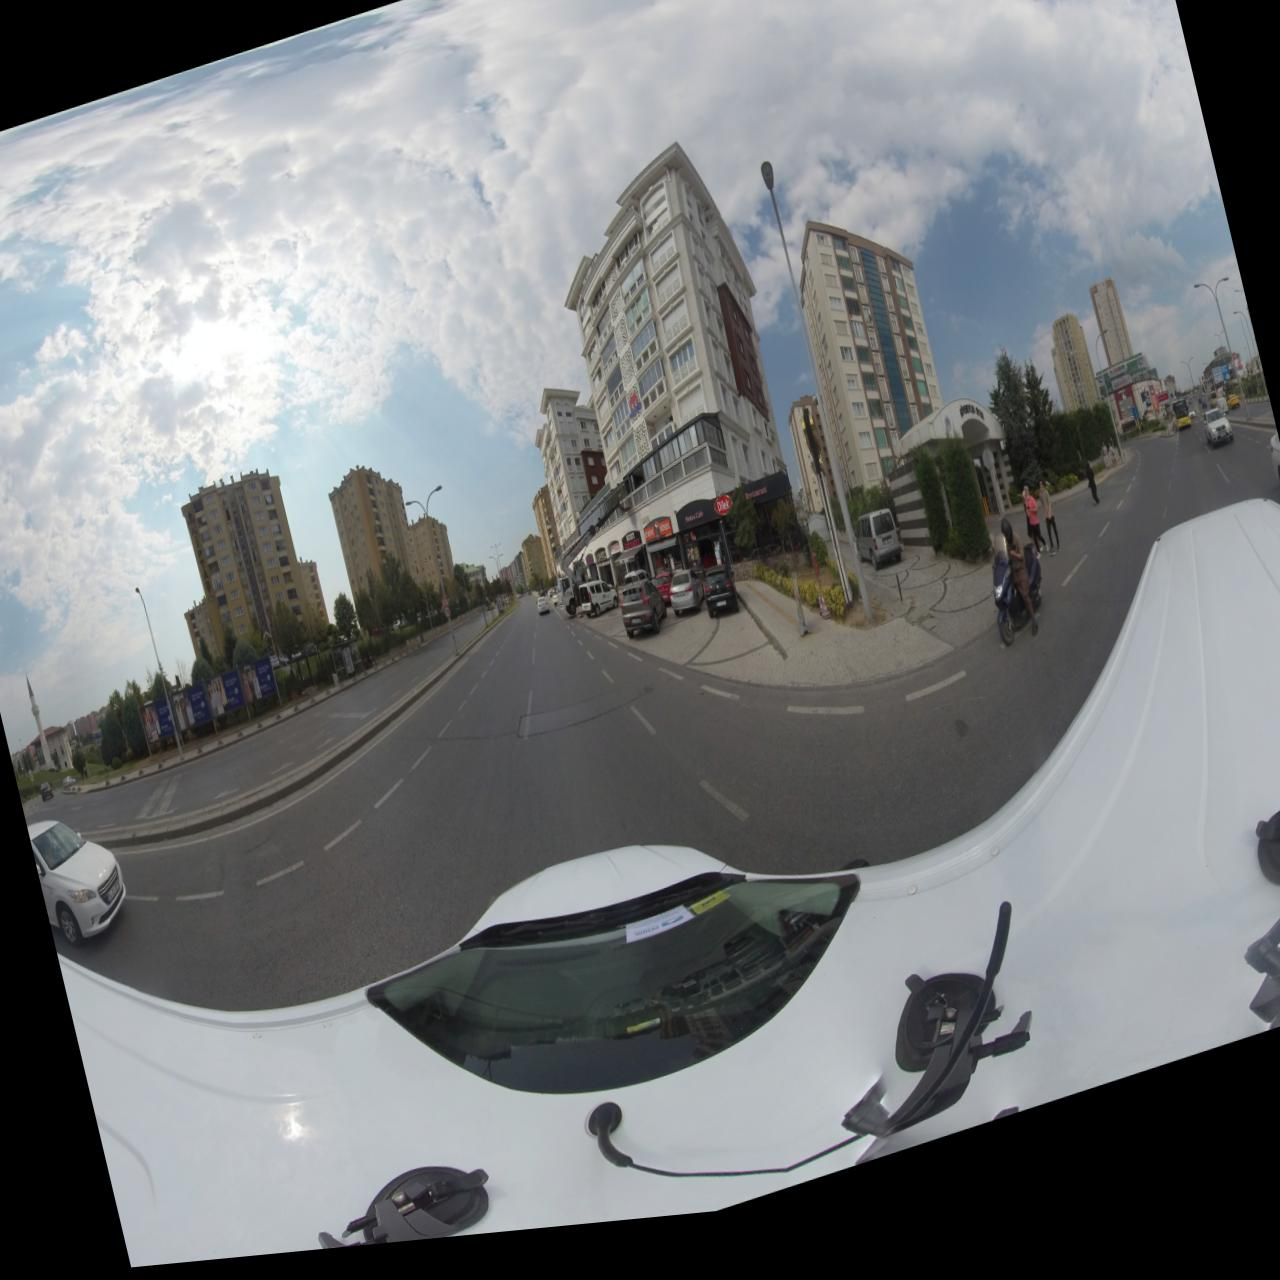SignStore: (683, 512, 729, 540), (644, 531, 673, 556), (622, 544, 642, 563), (595, 560, 607, 574), (585, 566, 594, 577)
